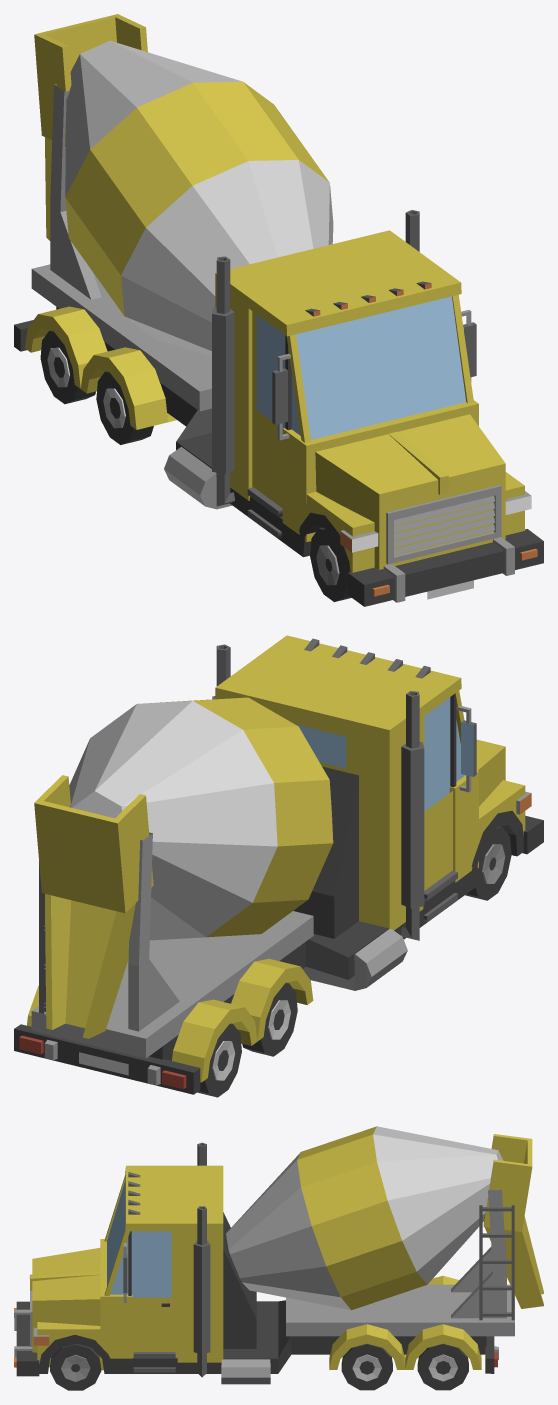
File: transport_truck_008.fbx
The picture shows the model from 3 angles, top to bottom: view 1: azimuth 30°, elevation 25°; view 2: azimuth 150°, elevation 25°; view 3: azimuth 270°, elevation 25°; orthographic projection. The views are drawn at different scales.
Visible parts, largest first — view 1: transport_truck_008; view 2: transport_truck_008; view 3: transport_truck_008.
Part boxes in pixels (x1,y1,x2,y2): transport_truck_008: (14, 14, 543, 606); transport_truck_008: (14, 635, 543, 1097); transport_truck_008: (14, 1126, 543, 1390).
Bounding box in the file's own units: 213 × 322 × 675.
